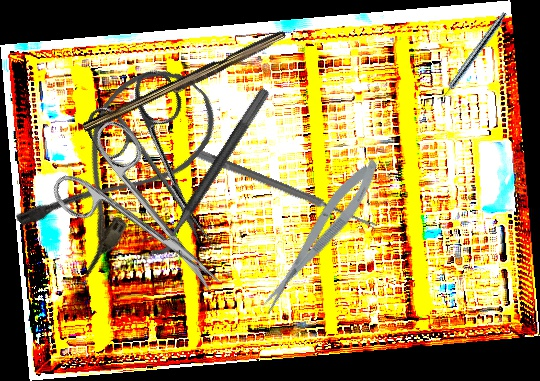Cannula: (9, 48, 232, 282)
Fixation Ring: (137, 77, 272, 263)
Handpiece: (435, 9, 509, 105)
Iris Scissors: (40, 113, 250, 326), (76, 63, 251, 269)
Micro Scissor: (249, 152, 389, 319)
Scalpel Handle: (81, 26, 289, 139)
Surgical Spoon: (195, 149, 379, 231)
